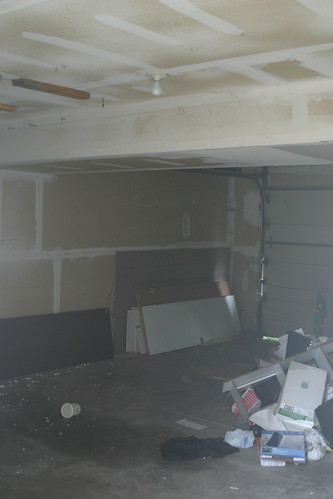trash: (142, 285, 333, 499)
